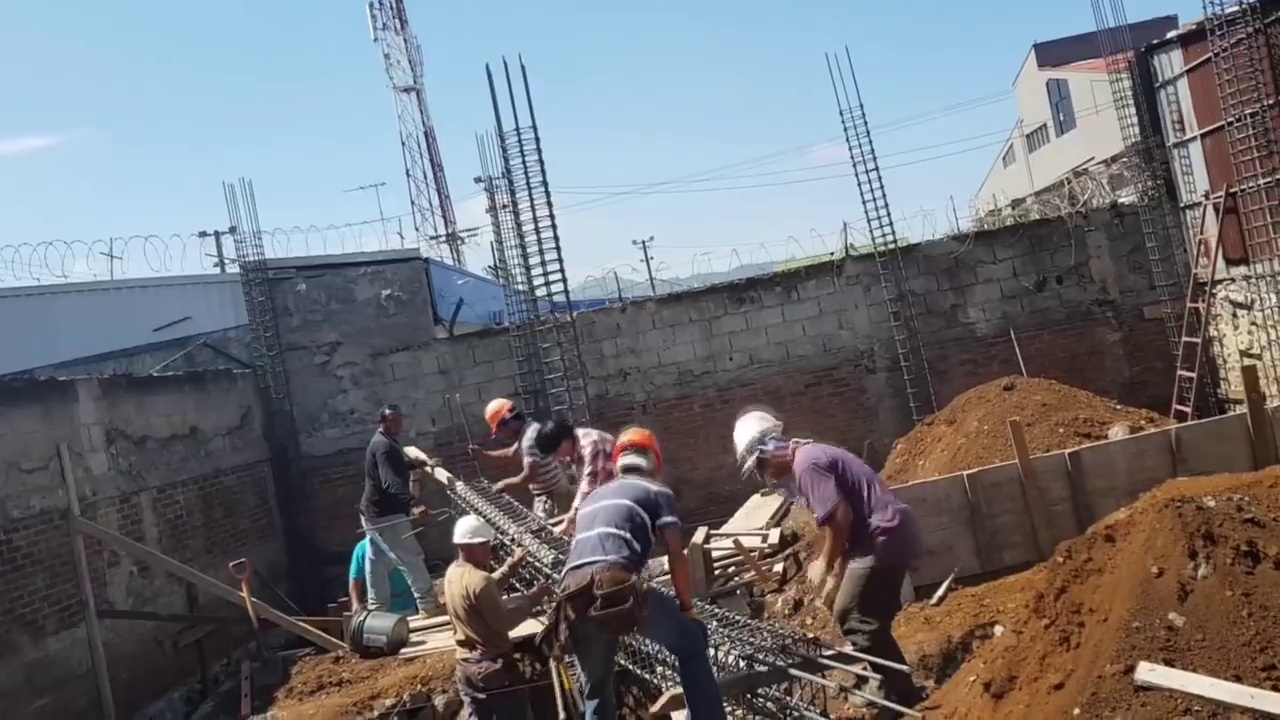helmet: (734, 416, 783, 479), (613, 430, 662, 463), (452, 517, 495, 548), (484, 401, 512, 438)
helmet-off: (538, 420, 580, 466), (370, 412, 398, 441)
helmet-on: (733, 416, 799, 491), (610, 430, 662, 489), (451, 520, 496, 573), (482, 399, 529, 443)
person: (733, 413, 928, 708), (548, 429, 723, 720), (442, 519, 543, 711), (360, 402, 439, 616), (474, 396, 579, 521), (538, 421, 610, 526)
